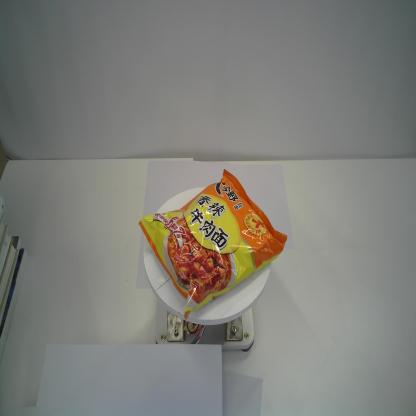Instant Noodles: (137, 167, 290, 325)
